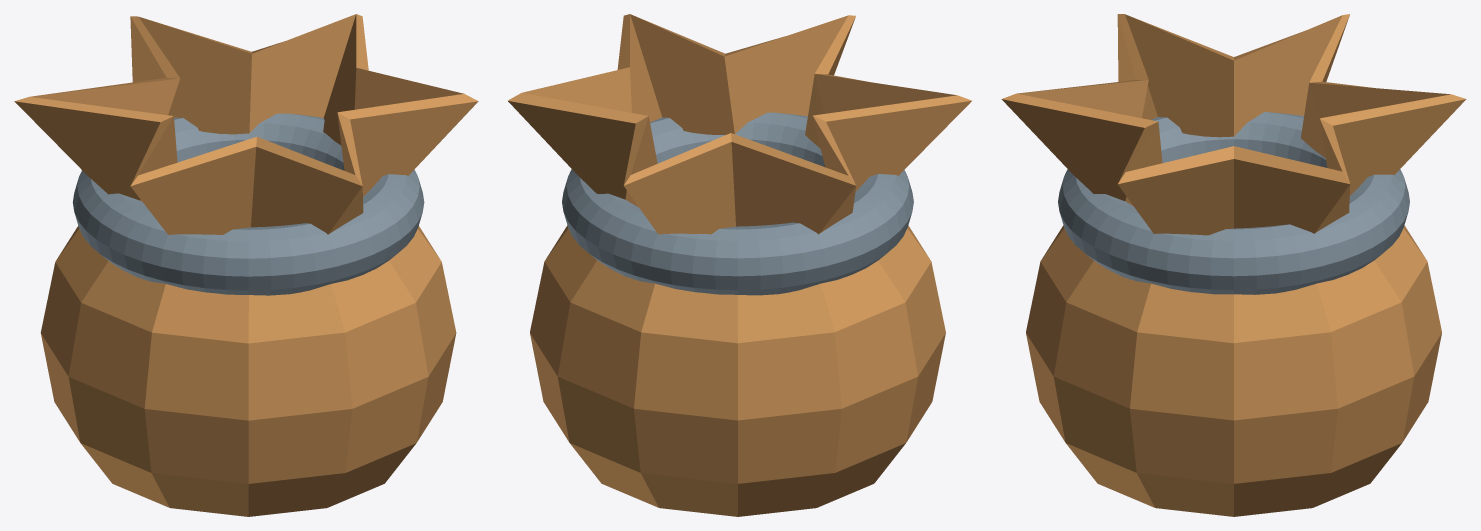
The model's file is pocket.fbx.
The picture shows the model from 3 angles, left to right: view 1: azimuth 30°, elevation 25°; view 2: azimuth 150°, elevation 25°; view 3: azimuth 270°, elevation 25°; orthographic projection.
Visible parts, largest first — view 1: Cylinder, Torus; view 2: Cylinder, Torus; view 3: Cylinder, Torus.
Part boxes in pixels (x1,y1,x2,y2): Cylinder: (14, 14, 478, 516); Torus: (72, 113, 424, 295); Cylinder: (508, 14, 971, 516); Torus: (562, 112, 913, 295); Cylinder: (1001, 14, 1466, 516); Torus: (1058, 112, 1409, 294).
Bounding box in the file's own units: 193 × 183 × 216.
